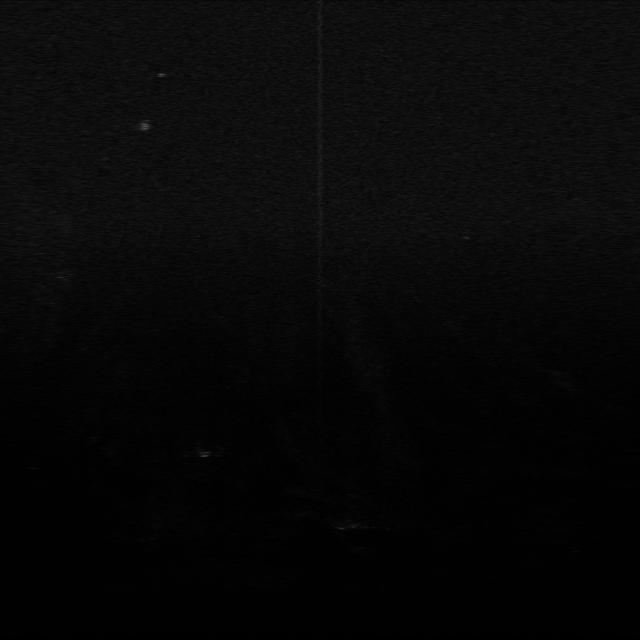rov: (132, 118, 157, 134)
